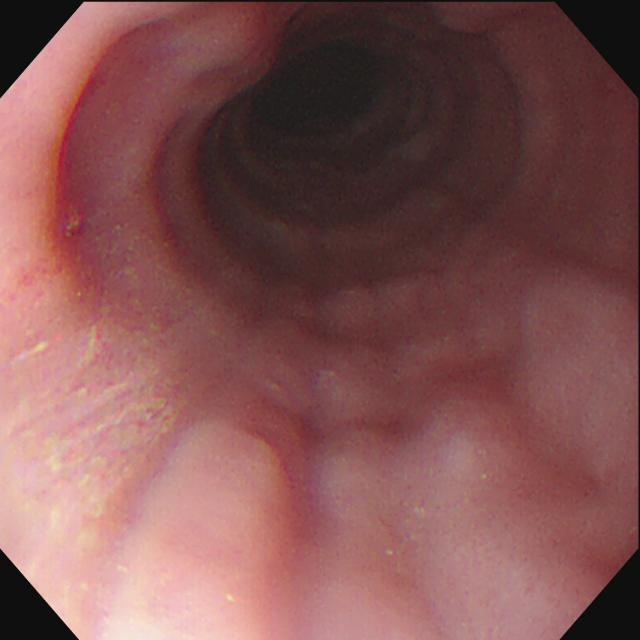E: (268, 46, 384, 128)
